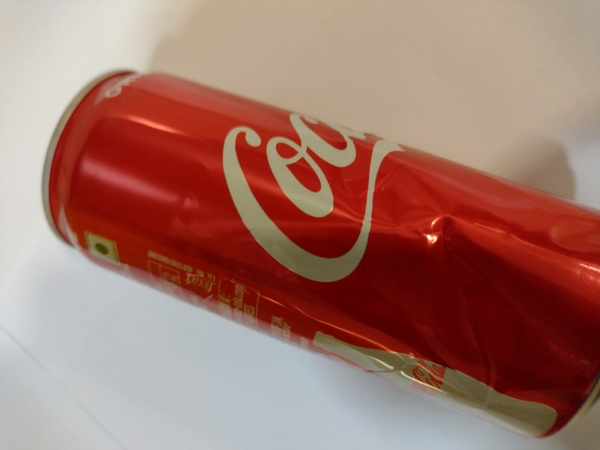can: (36, 61, 596, 446)
